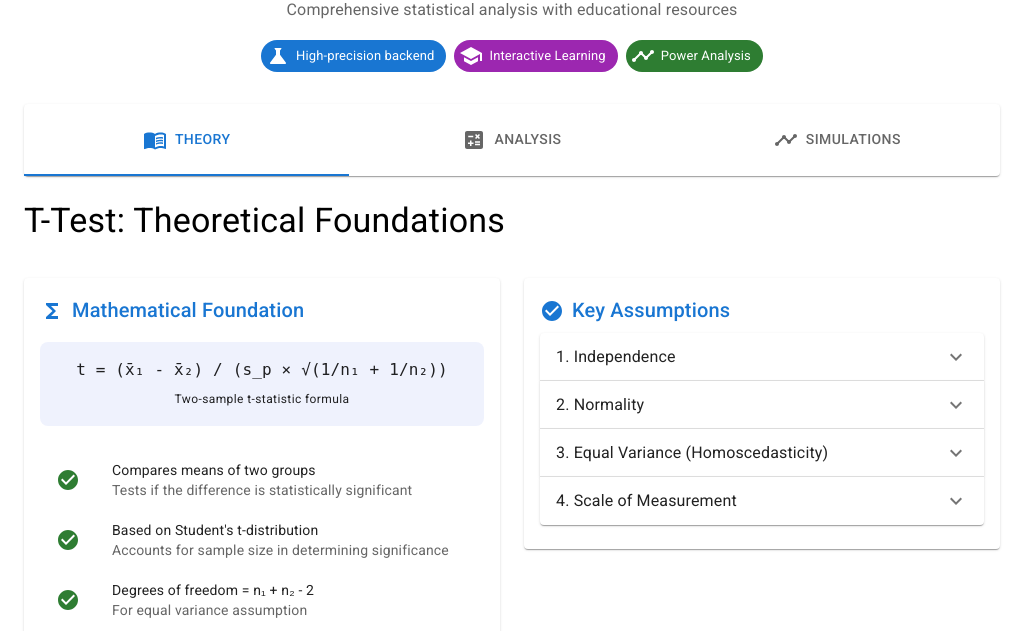
Scenario: the equal-variance check prints its p-value with significant figures (10, 10.01, 9.99, 10.02, 9.98, 10, 10.01, 9.99, 10.02, 9.98)
Click the tab "Analysis".
click(512, 140)  # box 349,104 -> 675,176
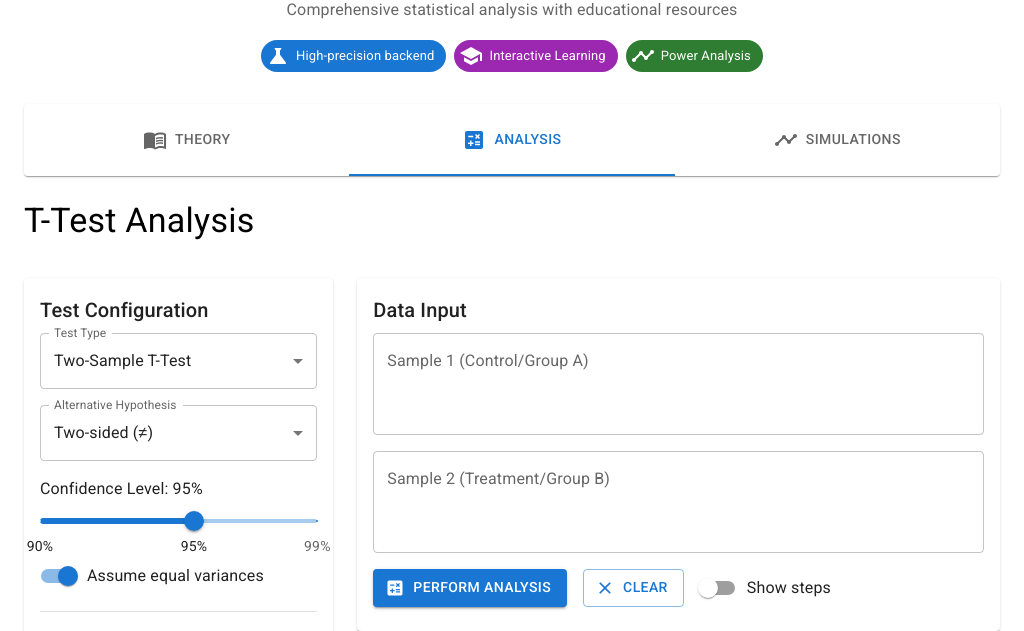
Type "10, 10.01, 9.99, 10.02, 9.98, 10, 10.01, 9.99, 10.02, 9.98" into the text box labelled "Sample 1 (Control/Group A)".
click(679, 384); type("10, 10.01, 9.99, 10.02, 9.98, 10, 10.01, 9.99, 10.02, 9.98")  # box 387,349 -> 970,418
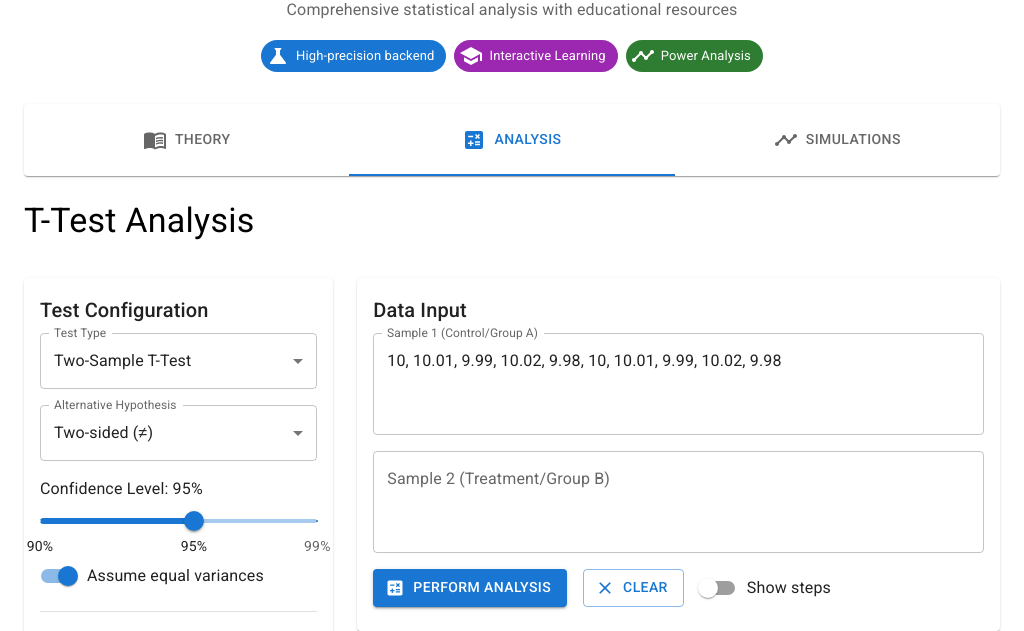
Type "0, 20, 5, 15, 10, 2, 18, 8, 12, 10" into the text box labelled "Sample 2 (Treatment/Group B)".
click(679, 502); type("0, 20, 5, 15, 10, 2, 18, 8, 12, 10")  # box 387,467 -> 970,536
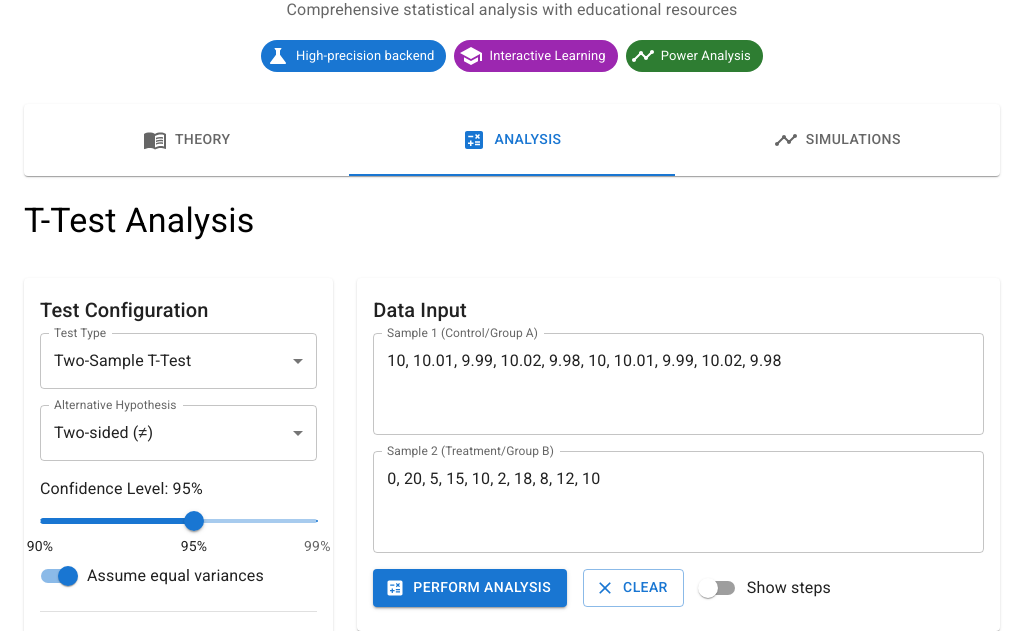
Click the button "Perform Analysis".
click(470, 588)  # box 373,569 -> 567,607
(page scrolled)
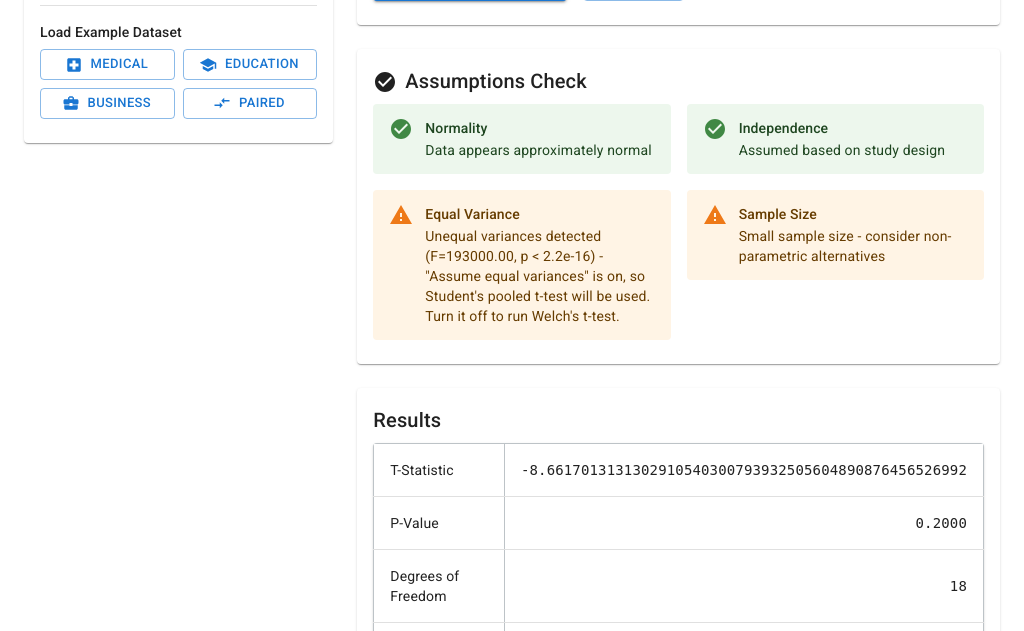
Expected: the text "(F=193000.00, p < 2.2e-16)" is shown, 425,228 -> 650,324
